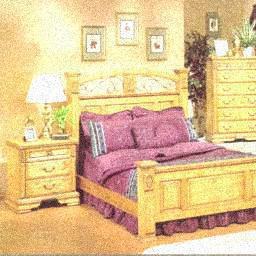Armario: (205, 57, 253, 141)
